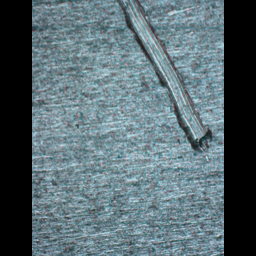d: (114, 0, 213, 152)
